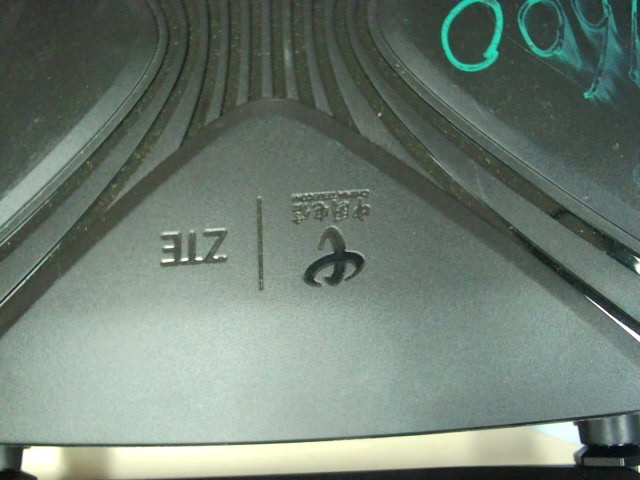AX_ZTEChinaTelecom: (160, 184, 389, 286)
